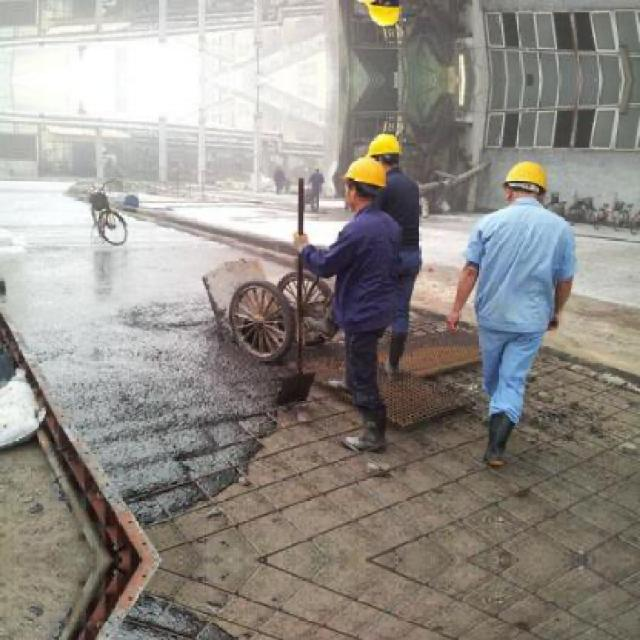helmet: (500, 155, 554, 208), (342, 157, 383, 211), (368, 134, 404, 172), (366, 0, 405, 28)
